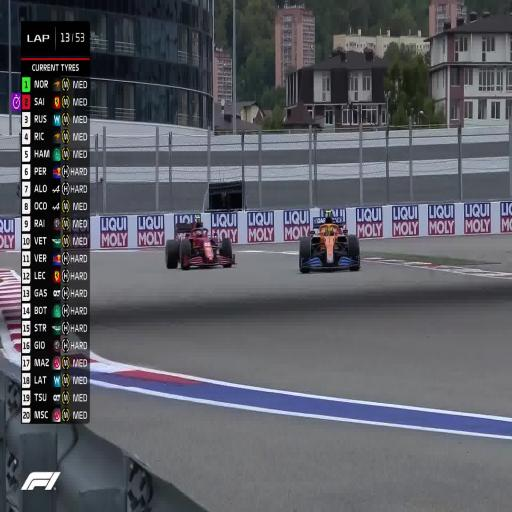f1_car: (299, 216, 360, 273), (165, 221, 235, 269)
